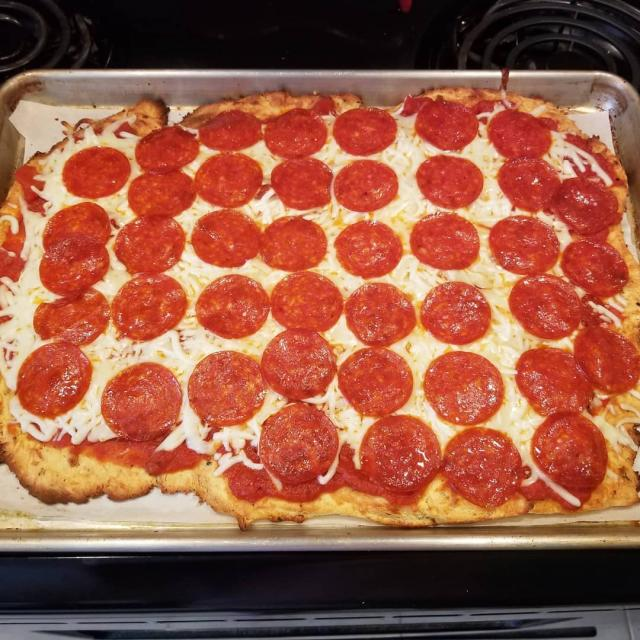pepperoni: (440, 431, 526, 509), (422, 353, 503, 428), (264, 405, 342, 482), (359, 418, 439, 493), (16, 343, 91, 419), (104, 366, 180, 441), (534, 415, 610, 489), (192, 355, 264, 431), (338, 350, 412, 420), (261, 334, 335, 400), (348, 284, 422, 349), (509, 279, 582, 343), (489, 214, 562, 274), (516, 349, 580, 416), (578, 327, 639, 397), (335, 221, 405, 281), (118, 278, 188, 337), (115, 218, 186, 276), (191, 212, 262, 270), (202, 282, 272, 340), (551, 180, 624, 235), (271, 276, 342, 332), (411, 216, 482, 271), (416, 156, 484, 213), (426, 285, 488, 347), (263, 216, 329, 274), (196, 152, 263, 209), (35, 293, 108, 345), (498, 158, 562, 212), (332, 107, 398, 159), (43, 241, 107, 294), (44, 203, 110, 254), (128, 172, 195, 222), (273, 158, 335, 212), (564, 242, 626, 296), (62, 149, 127, 200), (488, 110, 553, 160), (415, 106, 479, 154), (340, 160, 398, 212), (267, 114, 326, 159), (136, 128, 194, 172), (200, 117, 261, 141)
pizza: (0, 85, 640, 531)
